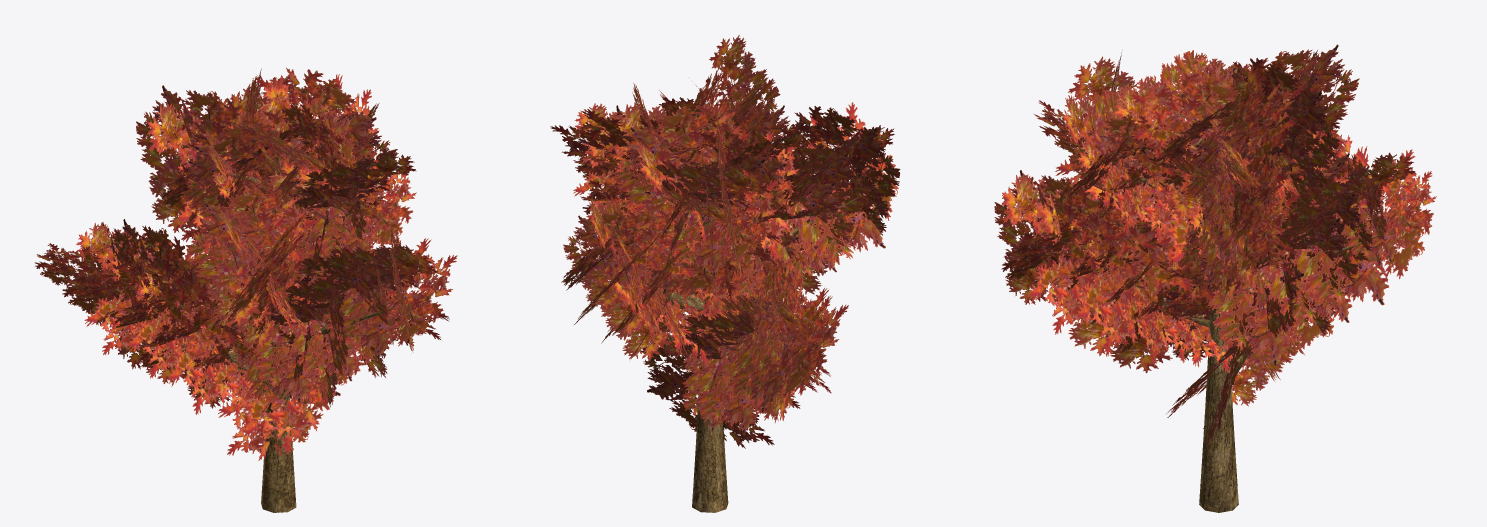
Rendered from Tree04.FBX.
3 renders of one model, left to right at view 1: azimuth 30°, elevation 25°; view 2: azimuth 150°, elevation 25°; view 3: azimuth 270°, elevation 25°, orthographic. The views are drawn at different scales.
Visible parts, largest first — view 1: Plane56, Plane76, Plane29, Plane83, Plane12, Plane84, Plane14, Plane98, Plane93, Plane30, Plane01, Plane11 (+40 smaller); view 2: Plane90, Plane56, Plane43, Plane74, Plane54, Plane16, Plane75, Plane40, Plane07, Plane13, Plane84, Cylinder01 (+44 smaller); view 3: Plane41, Plane102, Plane31, Cylinder01, Plane30, Plane90, Plane35, Plane27, Plane44, Plane84, Plane98, Plane99 (+44 smaller).
Part boxes in pixels (<box>): Plane56: <box>185,186,319,326</box>; Plane76: <box>136,85,271,232</box>; Plane29: <box>332,238,457,360</box>; Plane83: <box>292,156,416,263</box>; Plane12: <box>110,219,210,369</box>; Plane84: <box>294,151,416,230</box>; Plane14: <box>76,222,175,355</box>; Plane98: <box>251,67,376,187</box>; Plane93: <box>183,124,297,217</box>; Plane30: <box>328,244,449,339</box>; Plane01: <box>185,354,334,454</box>; Plane11: <box>108,246,217,378</box>; Plane90: <box>612,104,752,247</box>; Plane56: <box>780,106,900,235</box>; Plane43: <box>563,209,671,310</box>; Plane74: <box>667,165,778,276</box>; Plane54: <box>775,102,898,264</box>; Plane16: <box>750,296,845,402</box>; Plane75: <box>645,162,780,261</box>; Plane40: <box>580,208,702,335</box>; Plane07: <box>682,305,814,435</box>; Plane13: <box>732,285,848,412</box>; Plane84: <box>709,35,780,142</box>; Cylinder01: <box>692,123,728,512</box>; Plane41: <box>1258,146,1432,306</box>; Plane102: <box>1130,71,1265,220</box>; Plane31: <box>994,170,1118,304</box>; Cylinder01: <box>1199,104,1238,512</box>; Plane30: <box>1001,173,1123,334</box>; Plane90: <box>1231,58,1339,205</box>; Plane35: <box>1199,254,1351,366</box>; Plane27: <box>1039,189,1158,356</box>; Plane44: <box>1322,168,1436,262</box>; Plane84: <box>1062,90,1147,236</box>; Plane98: <box>1185,82,1304,202</box>; Plane99: <box>1200,64,1287,235</box>.
Bounding box in the file's own units: 358 × 433 × 411.
Materials: 2 (2 with a texture image).
